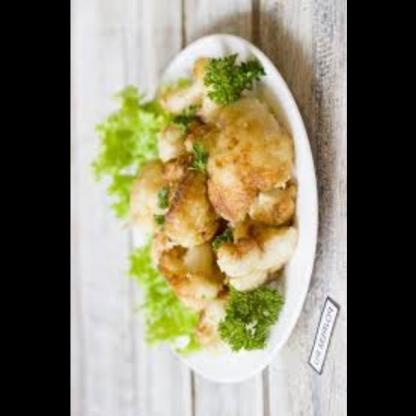cayliflower: (122, 57, 297, 345)
